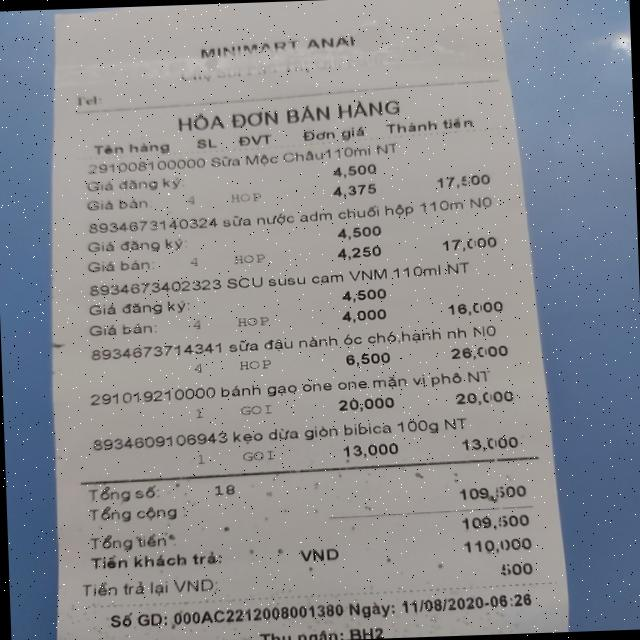Date: (397, 593, 488, 615)
Store_Name: (190, 32, 363, 62)
amount_number: (455, 481, 530, 505)
label_total: (85, 499, 183, 526)
